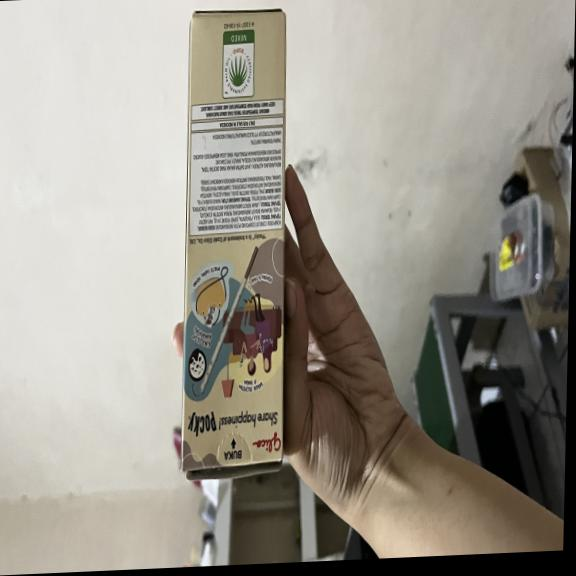Kertas: (185, 15, 285, 463)
